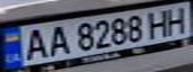2: (90, 17, 112, 50)
8: (72, 19, 96, 52), (124, 11, 148, 43), (109, 15, 130, 46)
A: (18, 26, 51, 61), (42, 22, 72, 56)
H: (160, 3, 193, 35), (145, 7, 175, 38)
